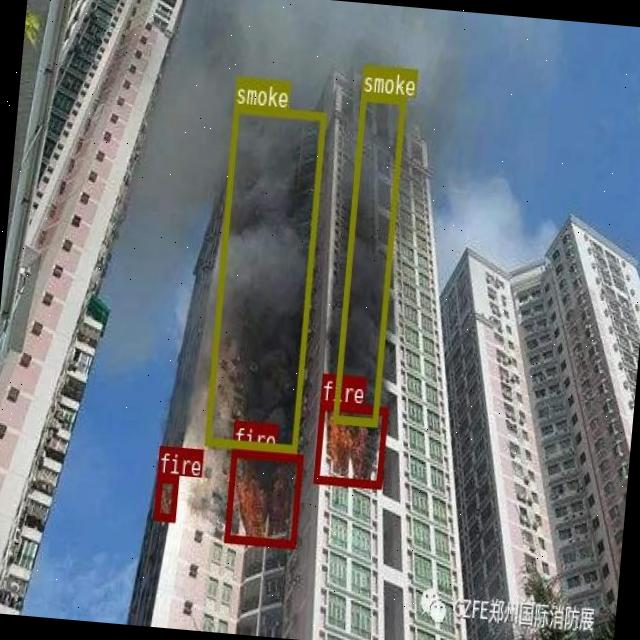fire: (222, 448, 302, 548), (313, 401, 387, 487), (153, 473, 178, 520)
smoke: (204, 102, 324, 450), (331, 90, 404, 424)
